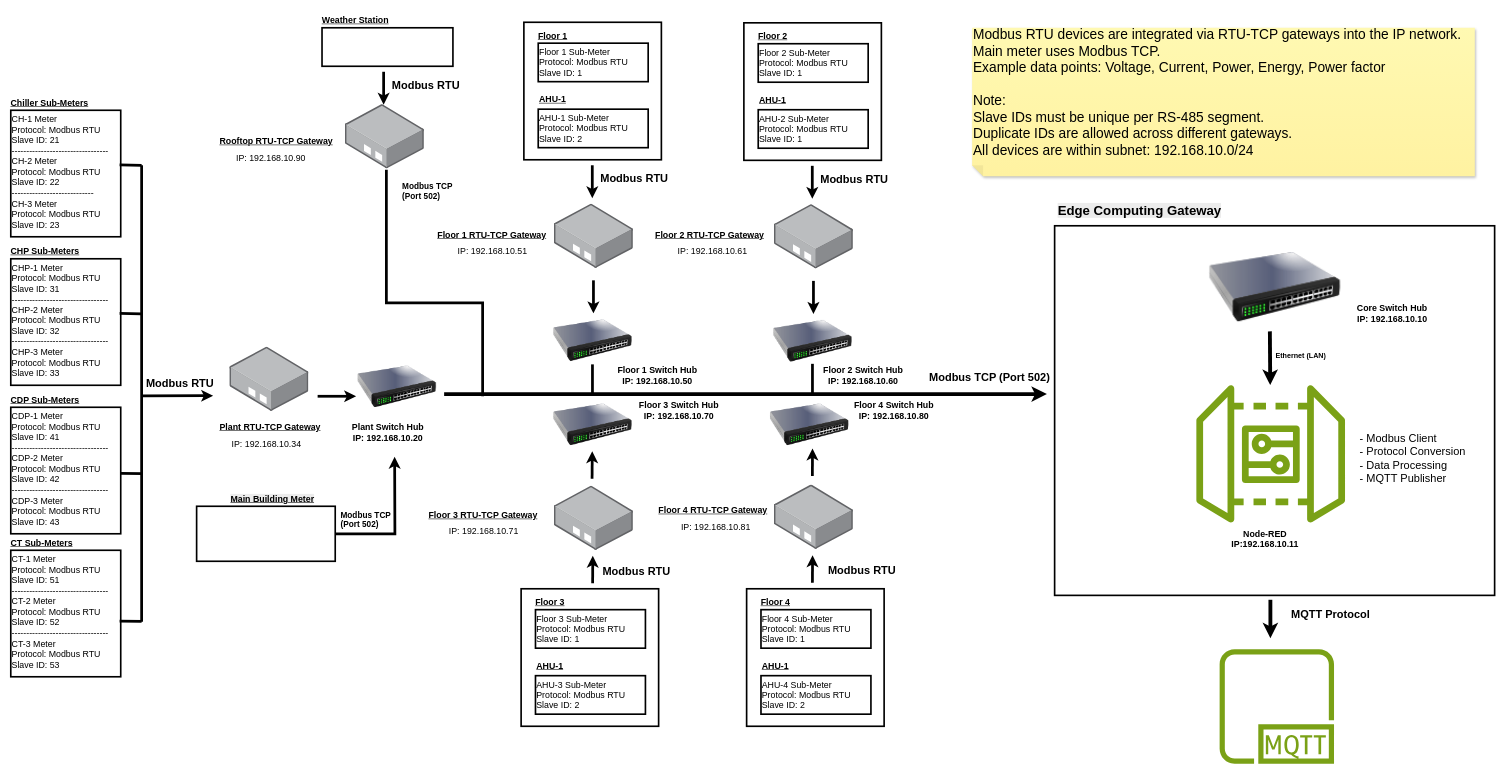
Some shapes in this 1505 by 773 pixel diagram are drawn without their labels. Each missing label, with the centre of its shape:
Device: Outdoor Weather Station Protocol: Modbus RTU Slave ID: 1: pixel 387 47
Main Building Meter (PQ Meter) Protocol: Modbus TCP IP: 192.168.10.33 Port: 502: pixel 266 533
MQTT Broker IP: 192.168.10.12 Port: 1883: pixel 1276 706
